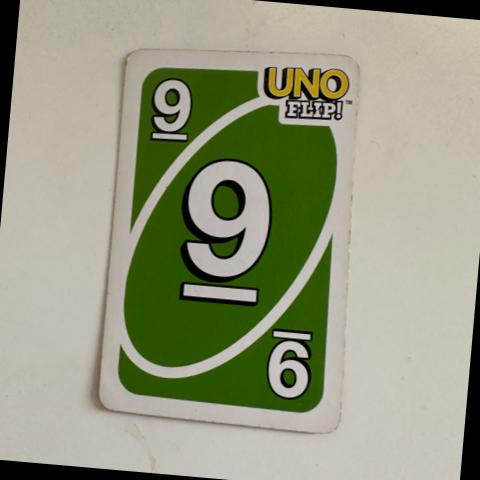draw2_green: (180, 158, 271, 306), (267, 327, 312, 401), (150, 78, 191, 144)
